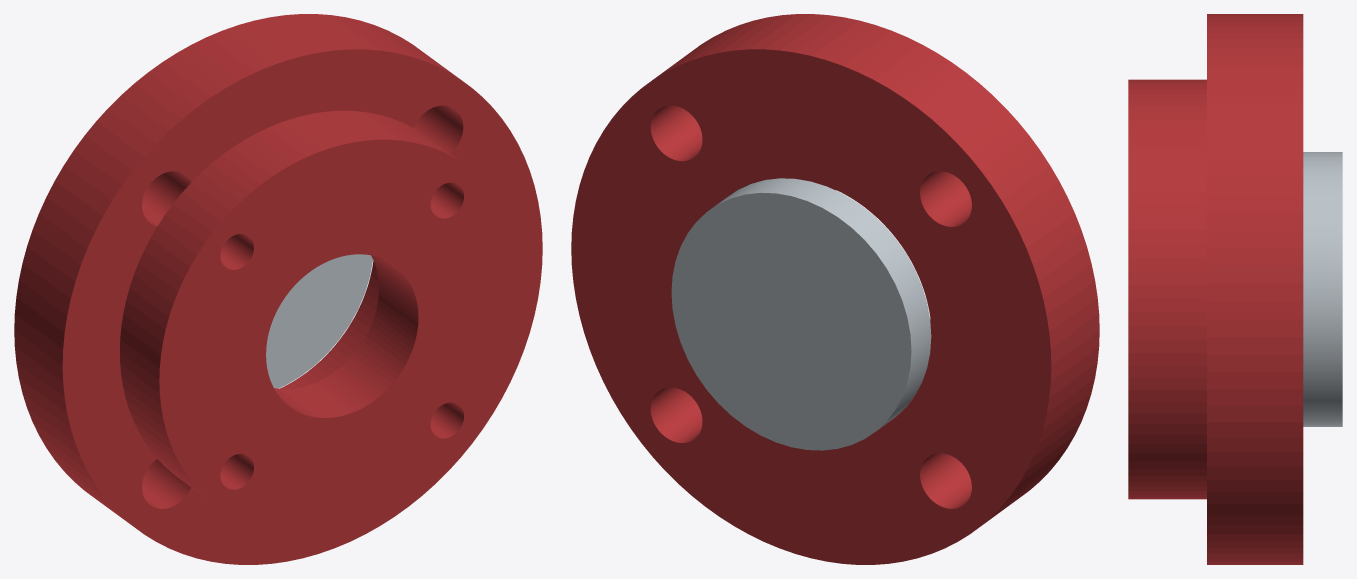
Rendered from mount.obj.
3 views of the same model, side by side, from view 1: azimuth 30°, elevation 25°; view 2: azimuth 150°, elevation 25°; view 3: azimuth 270°, elevation 25° (orthographic).
Parts seen in each view (by area): view 1: plate_b_pcd39, plate_a_iso50, pilot_boss; view 2: plate_a_iso50, pilot_boss; view 3: plate_a_iso50, plate_b_pcd39, pilot_boss.
Boxes of the visible parts, x1,y1,x2,y2 form: plate_b_pcd39: (119,110,524,532); plate_a_iso50: (14,14,542,564); pilot_boss: (266,254,372,388); plate_a_iso50: (571,14,1099,564); pilot_boss: (671,178,931,450); plate_a_iso50: (1207,14,1303,564); plate_b_pcd39: (1128,79,1206,499); pilot_boss: (1303,152,1342,426).
Bounding box in the file's own units: 0.063 × 0.063 × 0.0245.
